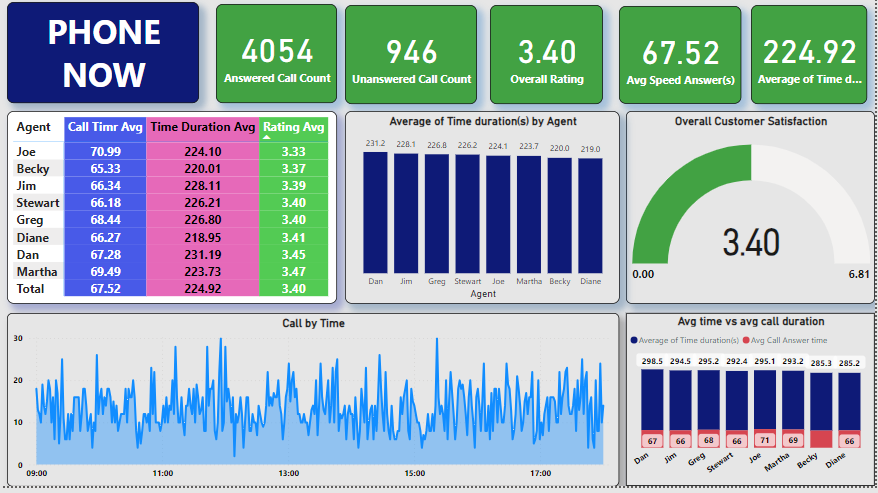

The dashboard page shown, as its layout file describes it:
{"tool":"powerbi","page":{"name":"Dasboard","canvas":[1280,720],"ordinal":0},"visuals":[{"type":"card","fields":{"Values":["CountNonNull(Sheet1.Answered (Y/N))"]},"box":[316.1,14.6,177.1,144.9],"z":0},{"type":"card","fields":{"Values":["CountNonNull(Sheet1.Answered (Y/N))"]},"box":[504.9,16.1,193.2,144.9],"z":1000},{"type":"card","fields":{"Values":["Sheet1.Overall Customer Satisfaction"]},"box":[717.1,16.1,165.4,144.9],"z":2000},{"type":"card","fields":{"Values":["Sheet1.Avg Call Answer time"]},"box":[905.9,17.6,178.5,143.4],"z":3000},{"type":"textbox","box":[10.2,11.7,281,147.8],"z":4000},{"type":"pivotTable","fields":{"Rows":["Sheet1.Agent"],"Values":["Sheet1.Avg Call Answer time","Avg(Sheet1.Time duration(s))","Avg(Sheet1.Satisfaction rating)"]},"box":[10.2,171.2,482.9,282.4],"z":5000},{"type":"card","fields":{"Values":["Avg(Sheet1.Time duration(s))"]},"box":[1099,16.1,169.8,144.9],"z":5001},{"type":"gauge","fields":{"Y":["Sheet1.Overall Customer Satisfaction"]},"box":[916.1,171.2,364.4,282.4],"z":5002},{"type":"clusteredColumnChart","fields":{"Category":["Sheet1.Agent"],"Y":["Avg(Sheet1.Time duration(s))"]},"box":[504.9,171.2,402.4,282.4],"z":5003},{"type":"stackedAreaChart","title":"Call by Time","fields":{"Category":["Sheet1.Time"],"Y":["CountNonNull(Sheet1.Call Id.1)"]},"box":[10.7,466.6,895.6,253.9],"z":5004},{"type":"lineStackedColumnComboChart","title":"Avg time vs avg call duration ","fields":{"Category":["Sheet1.Agent"],"Y":["Avg(Sheet1.Time duration(s))","Sheet1.Avg Call Answer time"]},"box":[916.1,466.8,364.4,253.2],"z":5005}]}

Visuals, with their boxes in screenshot pixels (x1, y1, x2, y2), scaled from the page's 1280x720 canvas onto the 878x493 screenshot:
card - CountNonNull(Sheet1.Answered (Y/N)): detection(217, 10, 338, 109)
card - CountNonNull(Sheet1.Answered (Y/N)): detection(346, 11, 479, 110)
card - Sheet1.Overall Customer Satisfaction: detection(492, 11, 605, 110)
card - Sheet1.Avg Call Answer time: detection(621, 12, 744, 110)
textbox: detection(7, 8, 200, 109)
pivotTable - Sheet1.Agent x Sheet1.Avg Call Answer time: detection(7, 117, 338, 311)
card - Avg(Sheet1.Time duration(s)): detection(754, 11, 870, 110)
gauge - Sheet1.Overall Customer Satisfaction: detection(628, 117, 877, 311)
clusteredColumnChart - Sheet1.Agent x Avg(Sheet1.Time duration(s)): detection(346, 117, 622, 311)
"Call by Time" stackedAreaChart: detection(7, 319, 622, 492)
"Avg time vs avg call duration " lineStackedColumnComboChart: detection(628, 320, 877, 492)
